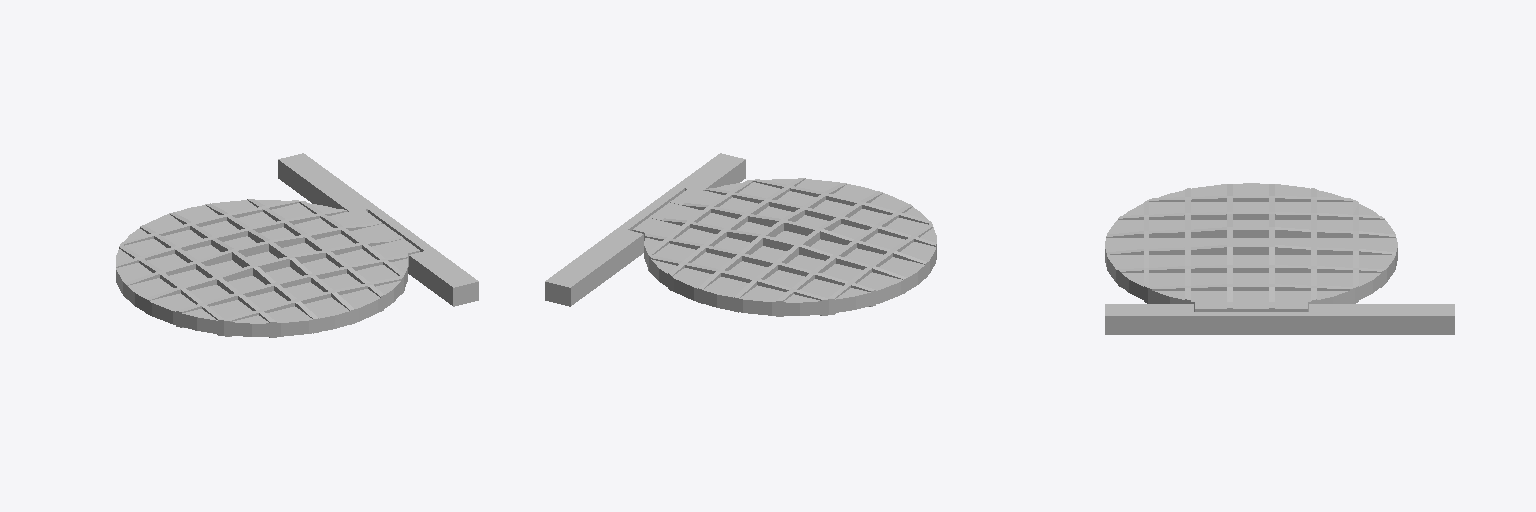
File: zelezna_vrata.obj
The picture shows the model from 3 angles: view 1: azimuth 30°, elevation 25°; view 2: azimuth 150°, elevation 25°; view 3: azimuth 270°, elevation 25°; orthographic projection.
Parts seen in each view (by area): view 1: zelezna_vrata_Plane.001, zelezna_vrata_nosilo_Cube; view 2: zelezna_vrata_Plane.001, zelezna_vrata_nosilo_Cube; view 3: zelezna_vrata_Plane.001, zelezna_vrata_nosilo_Cube.
Boxes of the visible parts, x1=… form: zelezna_vrata_Plane.001: x1=116, y1=199, x2=419, y2=337; zelezna_vrata_nosilo_Cube: x1=278, y1=153, x2=478, y2=306; zelezna_vrata_Plane.001: x1=632, y1=178, x2=936, y2=316; zelezna_vrata_nosilo_Cube: x1=545, y1=153, x2=745, y2=306; zelezna_vrata_Plane.001: x1=1105, y1=183, x2=1397, y2=311; zelezna_vrata_nosilo_Cube: x1=1105, y1=304, x2=1454, y2=334.
Size of the model in its own units: 4.26 by 0.4433 by 4.78.